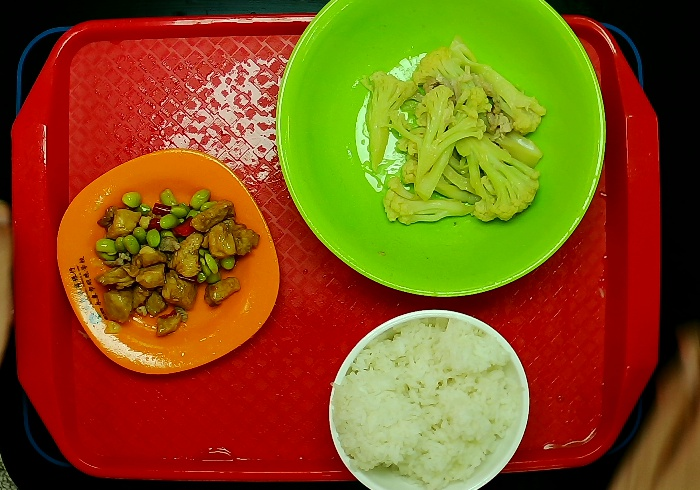YKMZ-Fan_Wan: (328, 307, 531, 490)
YKMZ-Ju_Se_Fang_Die: (55, 147, 279, 378)
YKMZ-Lv_Se_Tang_Wan: (276, 1, 607, 300)
